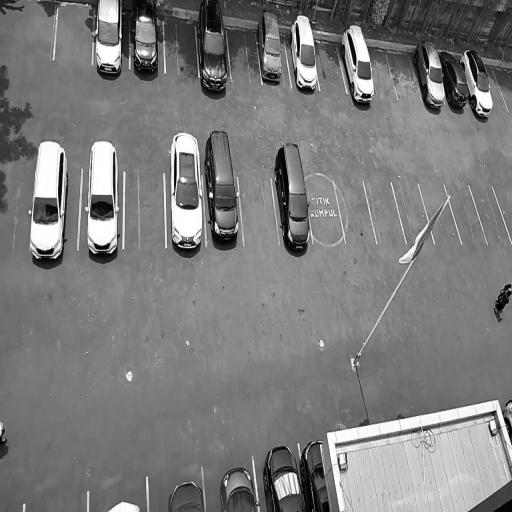Car: (27, 137, 72, 269), (83, 133, 122, 270), (167, 124, 205, 263), (203, 124, 243, 252), (270, 137, 313, 256), (337, 15, 380, 111), (196, 0, 231, 96), (407, 34, 449, 111), (286, 10, 322, 95), (261, 443, 304, 512), (458, 47, 497, 120), (299, 436, 332, 512), (255, 8, 286, 88), (94, 0, 124, 82), (132, 2, 161, 80), (438, 48, 474, 110), (216, 463, 260, 512), (162, 476, 206, 512), (99, 495, 142, 512), (500, 396, 512, 446)
Space Available: (124, 173, 166, 247), (238, 175, 279, 245), (335, 181, 378, 244), (363, 181, 406, 244), (305, 180, 345, 247), (392, 182, 434, 244), (54, 1, 95, 64), (445, 184, 488, 243), (419, 183, 461, 243), (470, 185, 511, 244), (162, 14, 198, 77), (227, 26, 262, 84), (385, 48, 421, 101), (314, 38, 347, 95), (367, 44, 398, 99), (485, 63, 508, 112), (493, 185, 512, 243), (492, 65, 512, 112)
